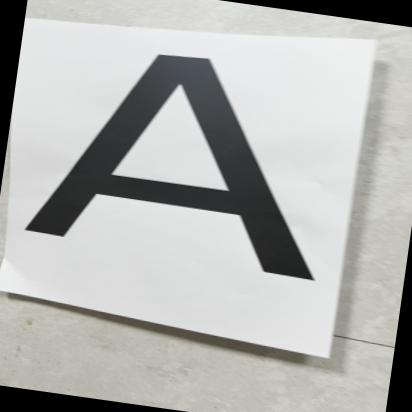seat: (17, 29, 356, 302)
